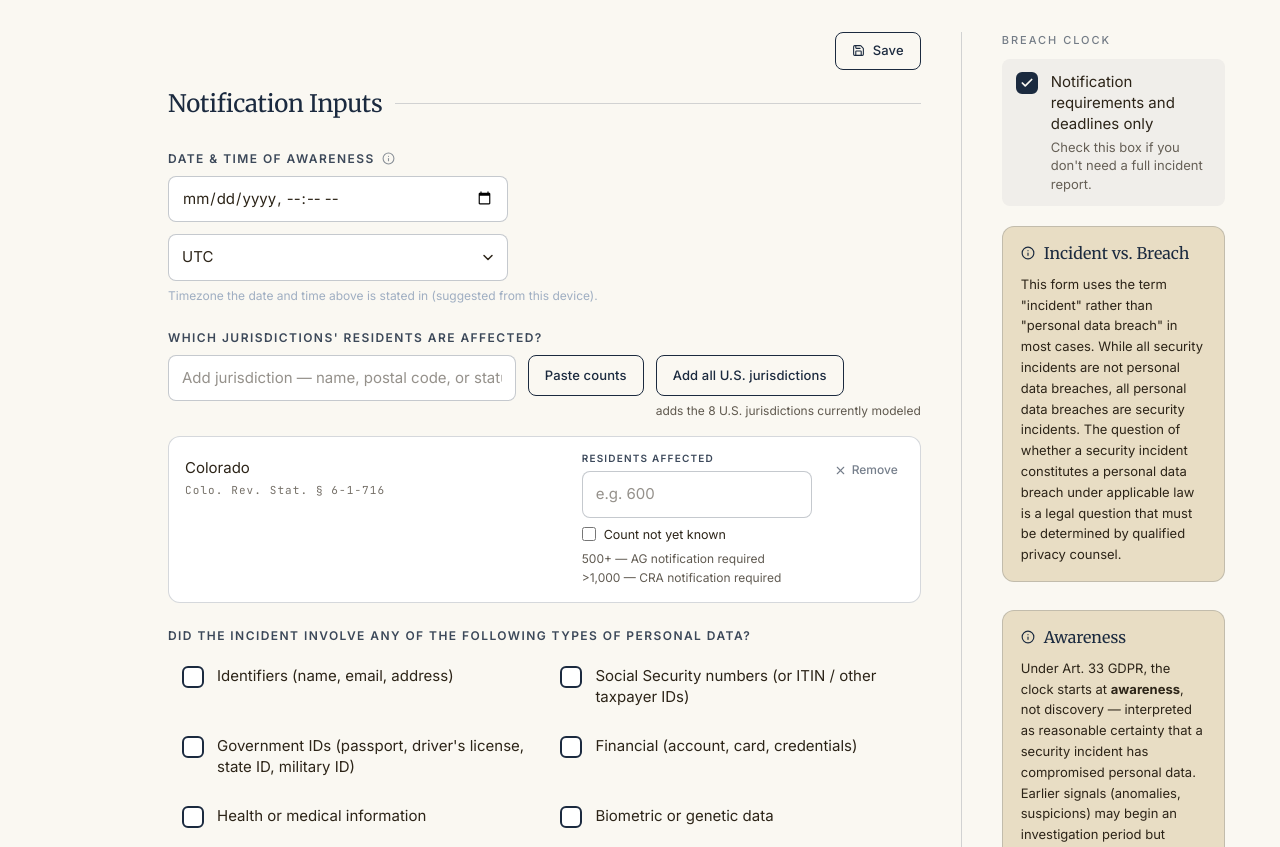
Test: 'Count not yet known' toggle › clears and disables the resident count when checked
Expected: the checkbox named "Count not yet known — Colorado" is shown, [582, 527, 596, 541]
Type "1200" into the number field named "Colorado residents affected".
click(697, 494); type("1200")  # box [582, 471, 812, 518]
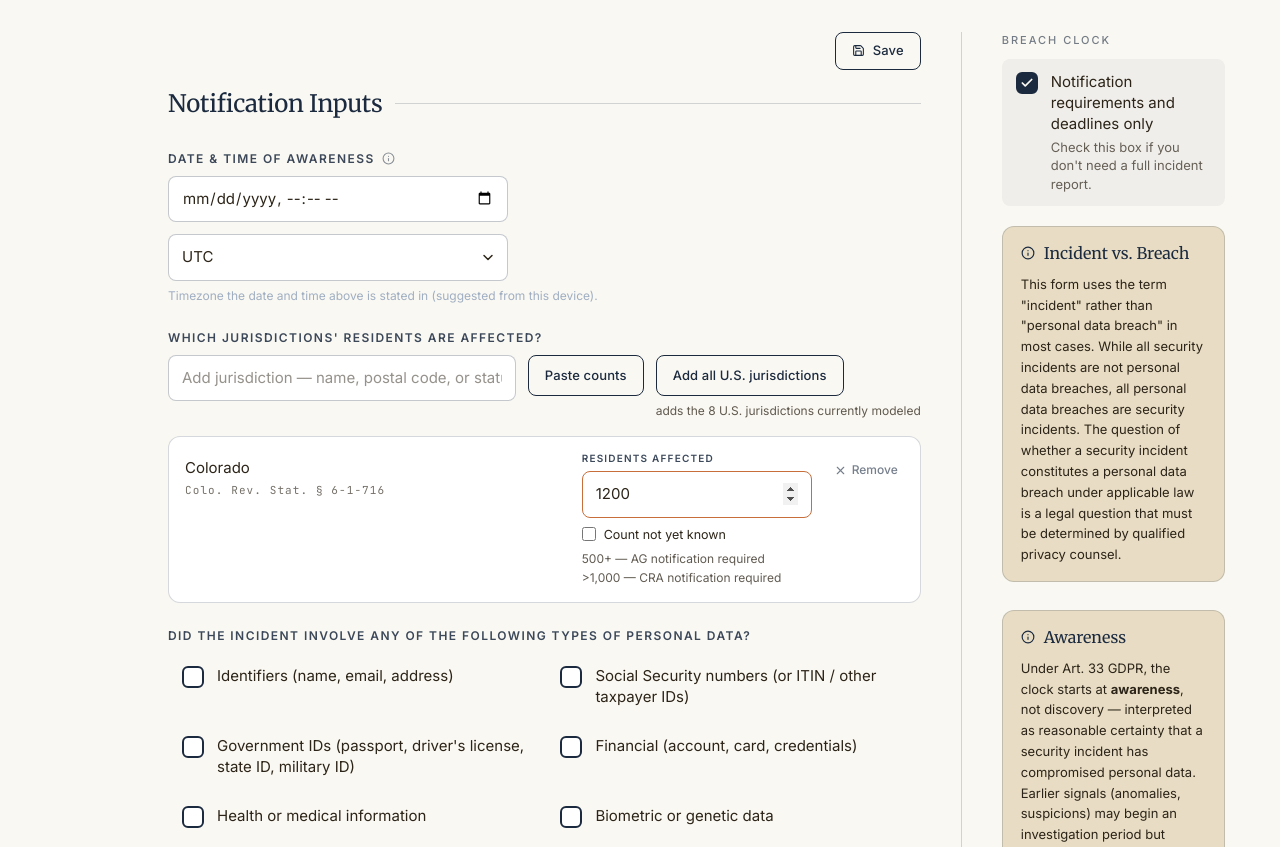
Click the checkbox named "Count not yet known — Colorado".
click(589, 534)  # box [582, 527, 596, 541]
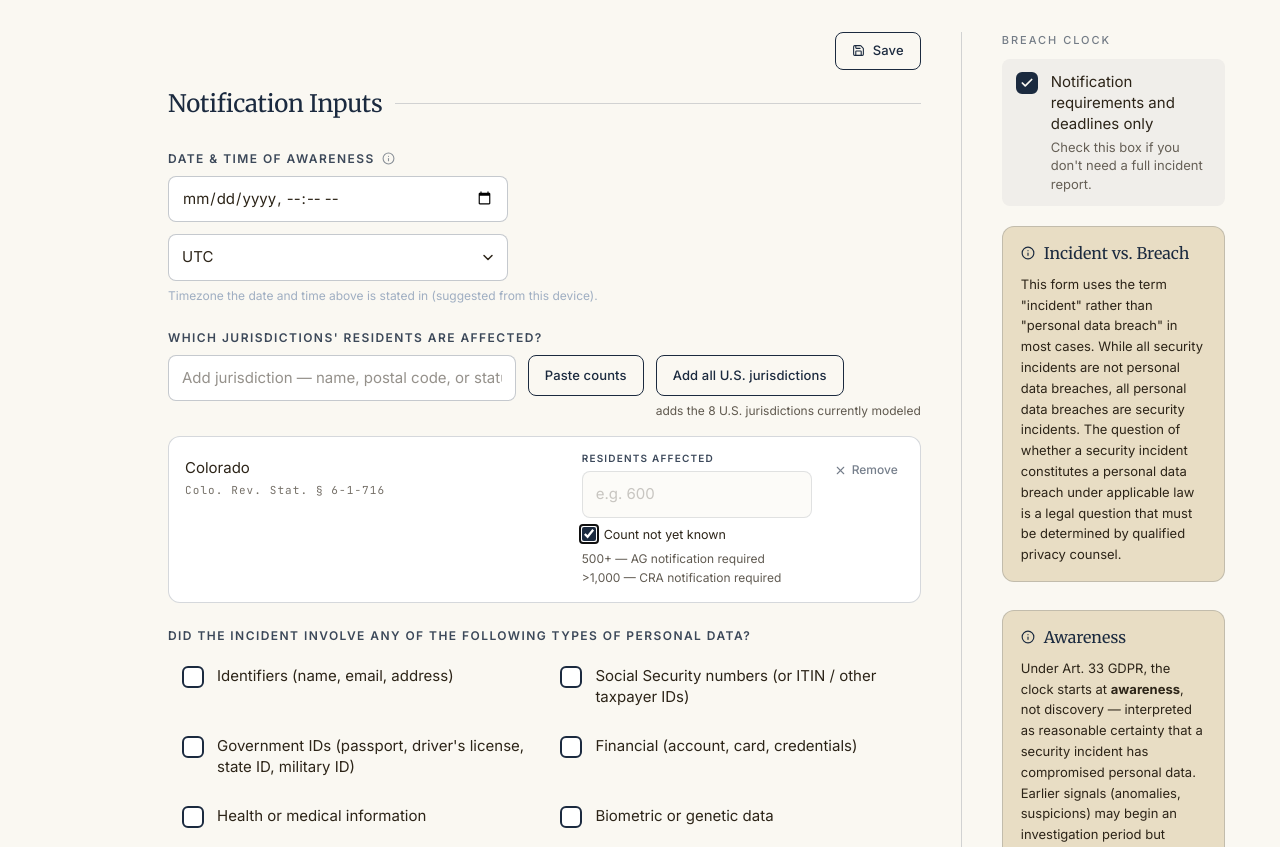
Result: the checkbox named "Count not yet known — Colorado" is checked at [582, 527, 596, 541]
Result: the number field named "Colorado residents affected" is empty at [582, 471, 812, 518]
Result: the number field named "Colorado residents affected" is disabled at [582, 471, 812, 518]
